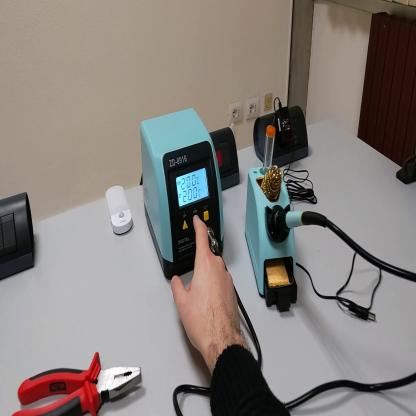hand: (172, 214, 241, 355)
pliers: (14, 351, 145, 415)
socket: (254, 104, 311, 168), (211, 128, 244, 192)
welder base: (248, 122, 300, 313)
welder probe tip: (272, 200, 325, 244)
welder station: (140, 110, 225, 279)
